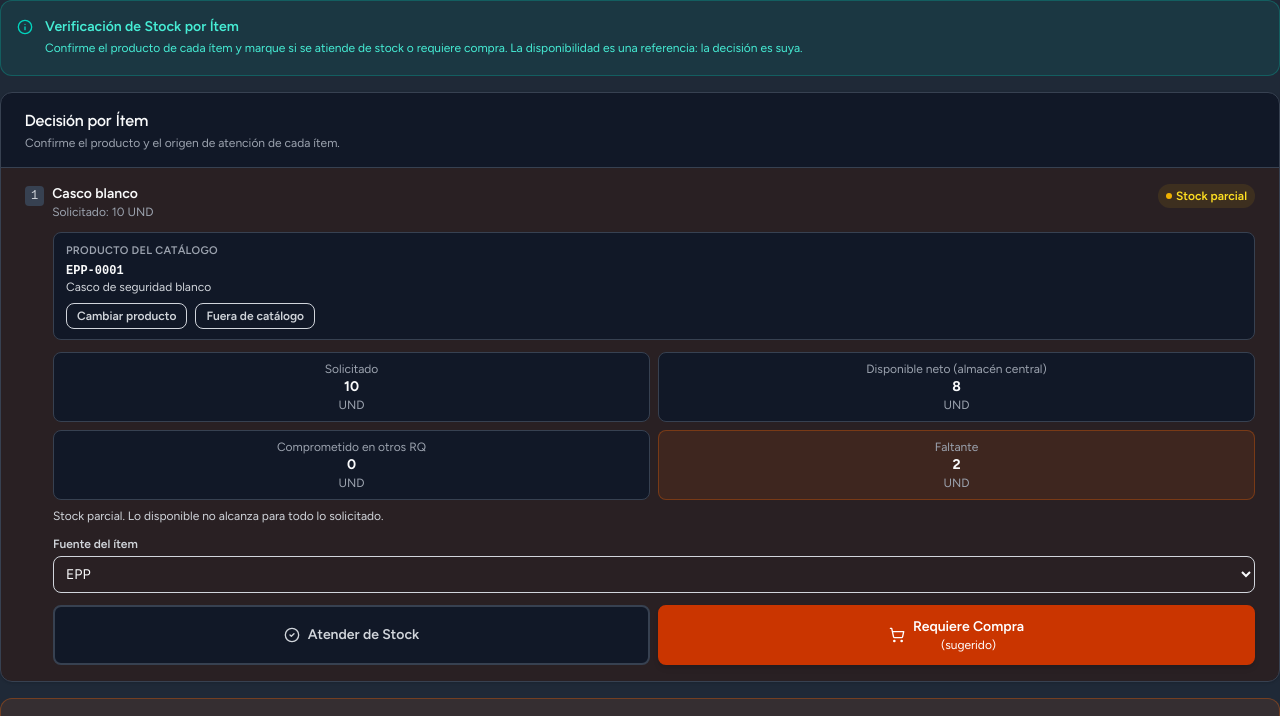
Scenario: StockCheckPanel — confirmar › un stock parcial dice cuánto hay, cuánto se pidió y cuánto falta
The image size is (1280, 716).
Click the button "Atender de Stock". click: (352, 635)
box: [53,605,650,665]
(page scrolled)
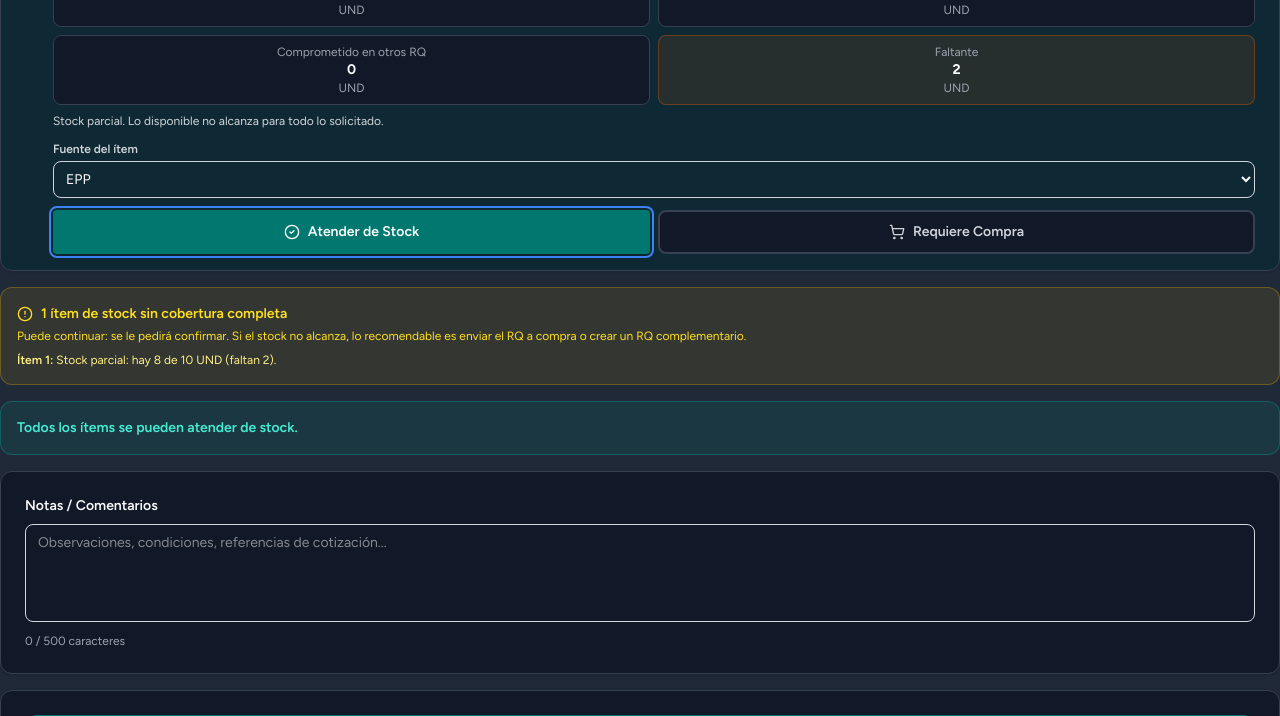
Now the list item "Ítem 1: Stock parcial: hay 8 de 10 UND (faltan 2)." is shown, box [17,353,276,367]
